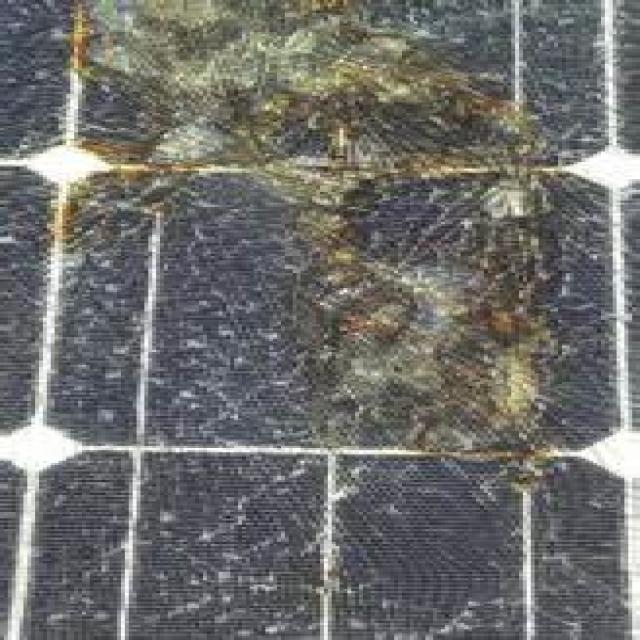Electrical-damage: (63, 0, 580, 508)
